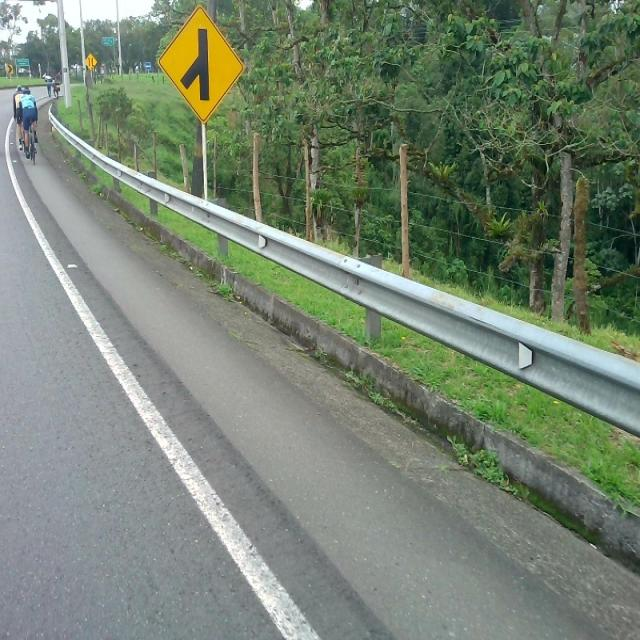DITCH: (4, 87, 638, 638)
